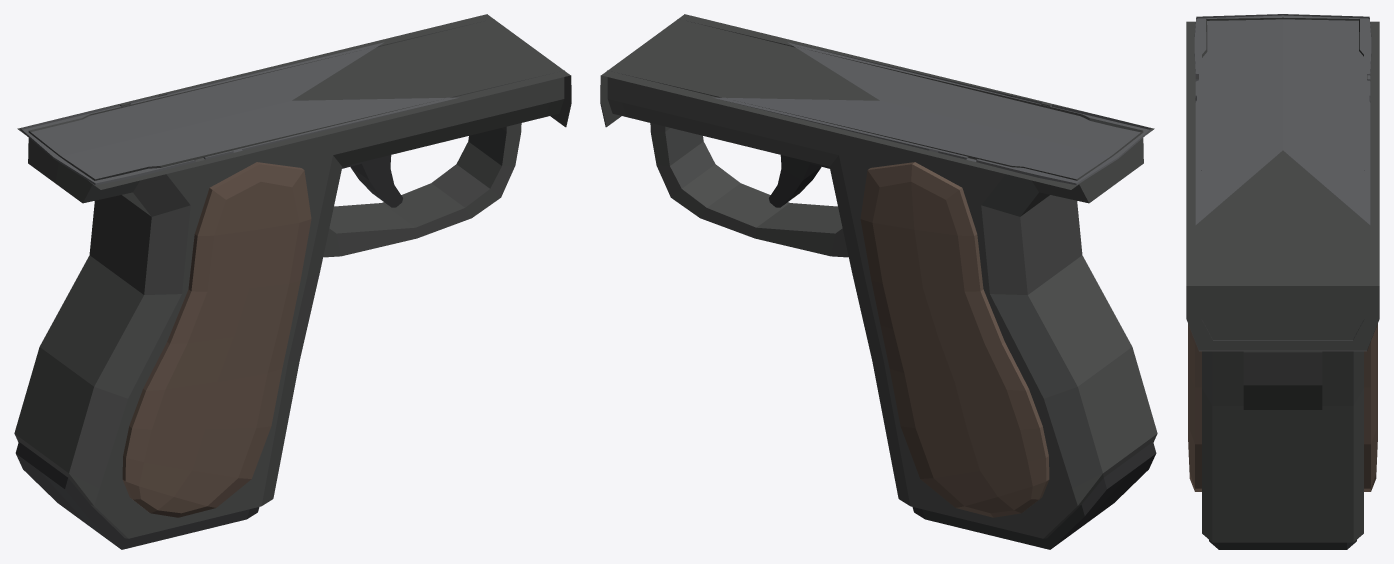
File: Pistol_01.fbx
3 views of the same model, side by side, from view 1: azimuth 30°, elevation 25°; view 2: azimuth 150°, elevation 25°; view 3: azimuth 270°, elevation 25° (orthographic). The views are drawn at different scales.
Visible parts, largest first — view 1: Pistol_3; view 2: Pistol_3; view 3: Pistol_3.
Part boxes in pixels (x1,y1,x2,y2): Pistol_3: (14,14,571,549); Pistol_3: (600,14,1157,549); Pistol_3: (1186,14,1379,549).
Bounding box in the file's own units: 111 × 81.93 × 32.87.
